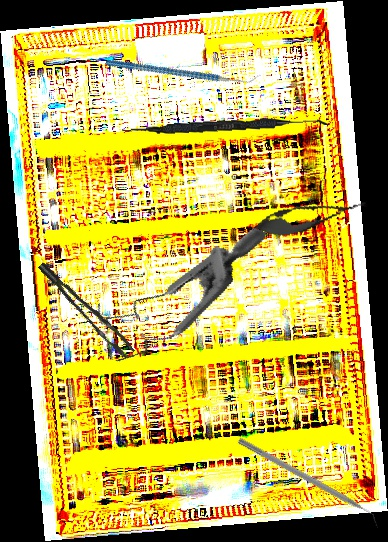Chopper: (105, 9, 261, 130), (232, 436, 385, 531)
Micro Scissor: (249, 189, 371, 244)
Spatula Surgical: (121, 112, 328, 140)
Speculum: (80, 183, 267, 396)
Tissue Forceps: (37, 251, 136, 367)
